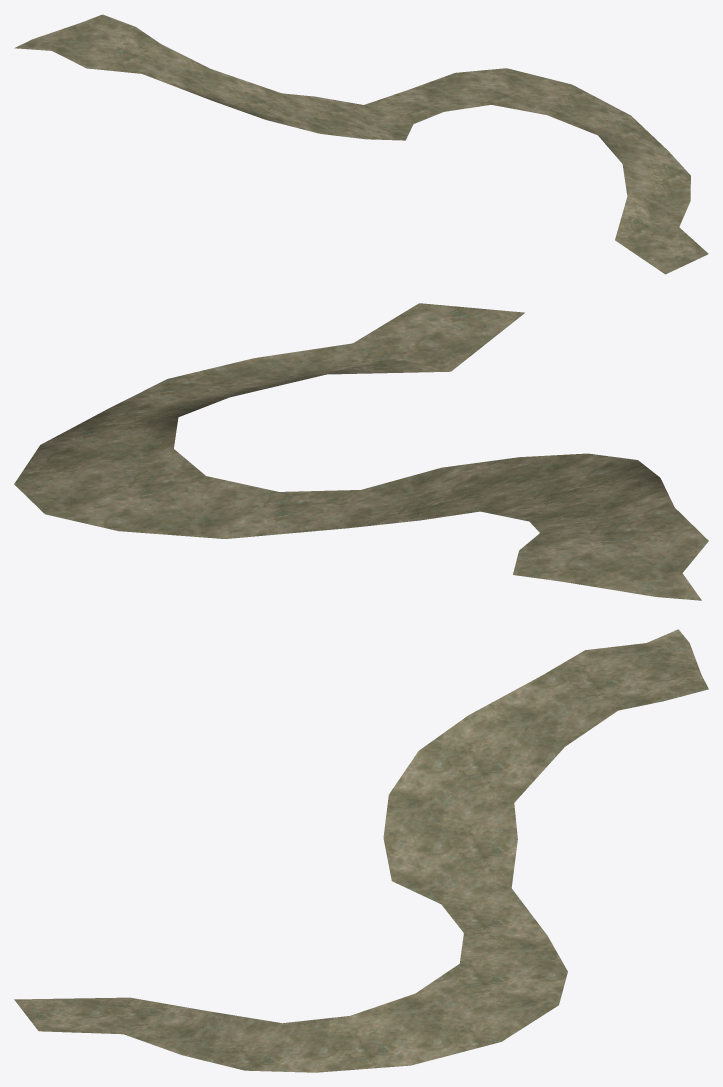
Rendered from OVERHILL_A_01_LINE11.fbx.
3 views of the same model, one above another, from view 1: azimuth 30°, elevation 25°; view 2: azimuth 150°, elevation 25°; view 3: azimuth 270°, elevation 25° (orthographic). The views are drawn at different scales.
Visible parts, largest first — view 1: OVERHILL_A_01_LINE11; view 2: OVERHILL_A_01_LINE11; view 3: OVERHILL_A_01_LINE11.
Boxes of the visible parts, x1,y1,x2,y2 form: OVERHILL_A_01_LINE11: (14,14,708,274); OVERHILL_A_01_LINE11: (14,303,708,600); OVERHILL_A_01_LINE11: (14,629,708,1072).
Size of the model in its own units: 125202 by 28280 by 121944.
1 material, 1 textured.
